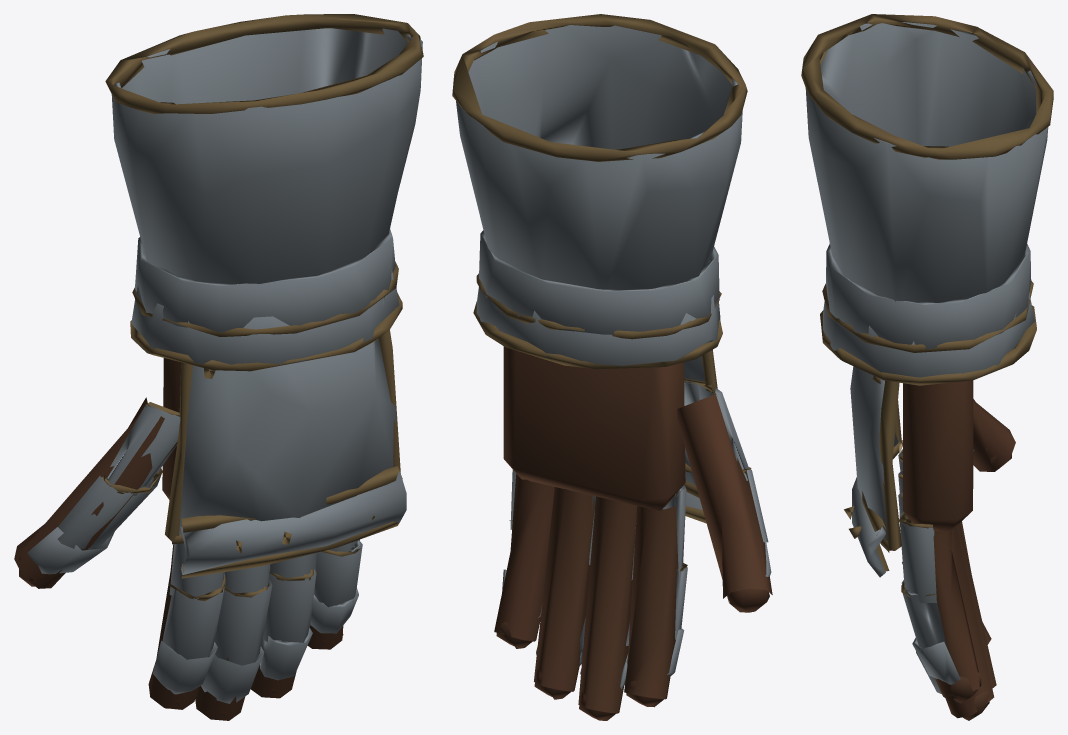
3 views of the same model, side by side, from view 1: azimuth 30°, elevation 25°; view 2: azimuth 150°, elevation 25°; view 3: azimuth 270°, elevation 25° (orthographic). The views are drawn at different scales.
Visible parts, largest first — view 1: hammered plate, tanned leather; view 2: hammered plate, tanned leather; view 3: hammered plate, tanned leather.
Boxes of the visible parts, x1,y1,x2,y2 form: hammered plate: (27, 14, 423, 703); tanned leather: (14, 358, 343, 720); hammered plate: (452, 14, 771, 689); tanned leather: (494, 346, 772, 720); hammered plate: (801, 14, 1053, 693); tanned leather: (899, 380, 1015, 720).
Size of the model in its own units: 0.1663 by 0.3025 by 0.1059.
